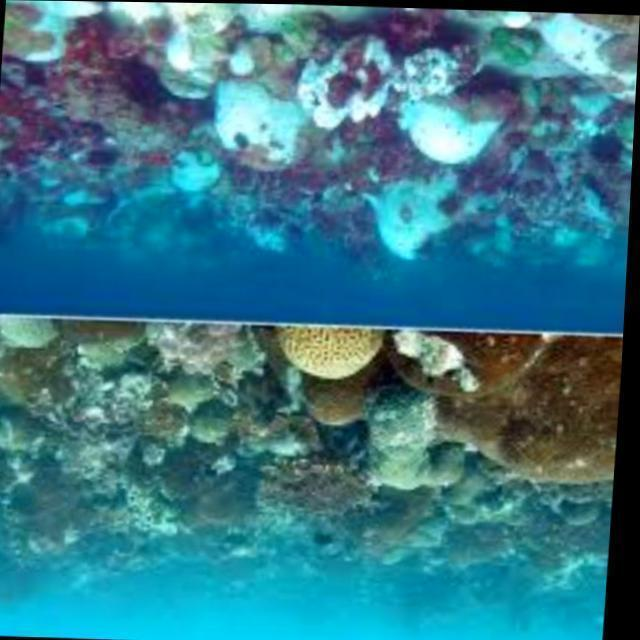Bleached Coral: (436, 327, 637, 485)
Dead Coral: (3, 339, 392, 606)
